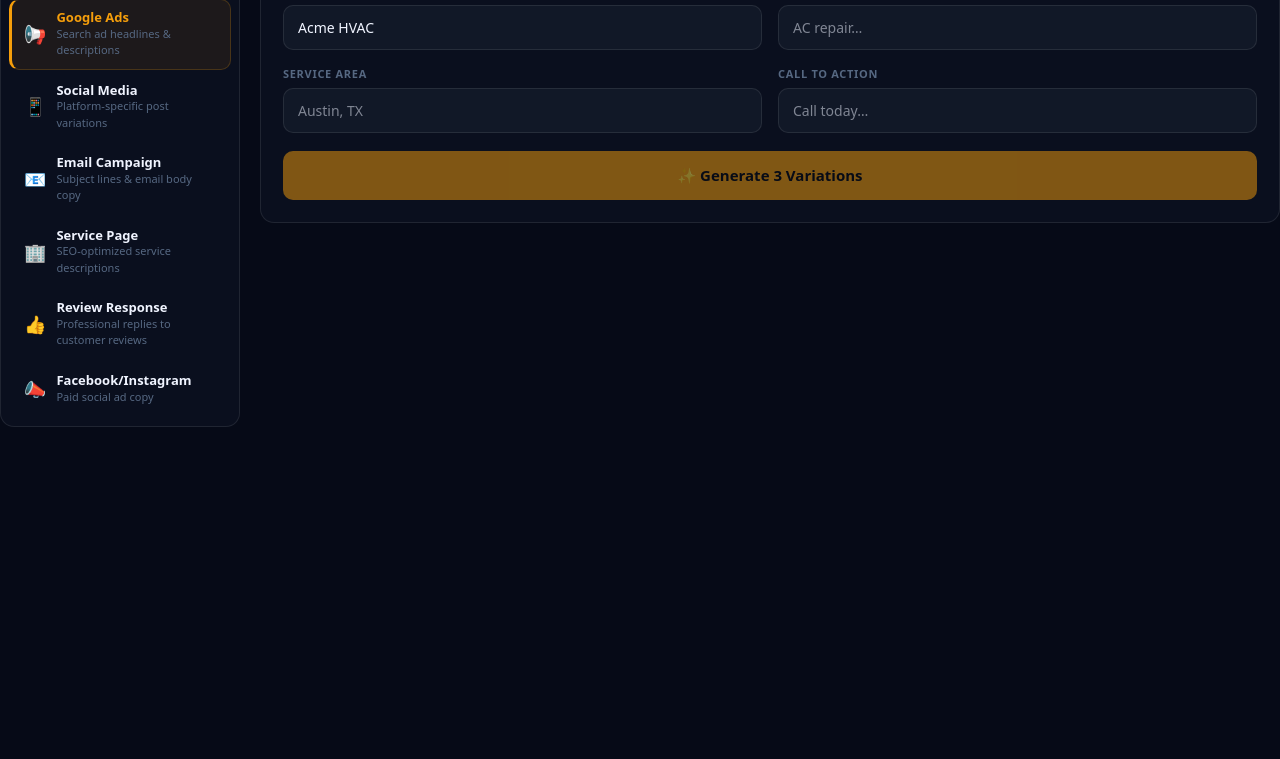
CopyStep › "Next" button is disabled until a variation is selected
Type "Acme" into the field labelled "Business Name".
click(522, 27); type("Acme")  # box left=283, top=4, right=762, bottom=50
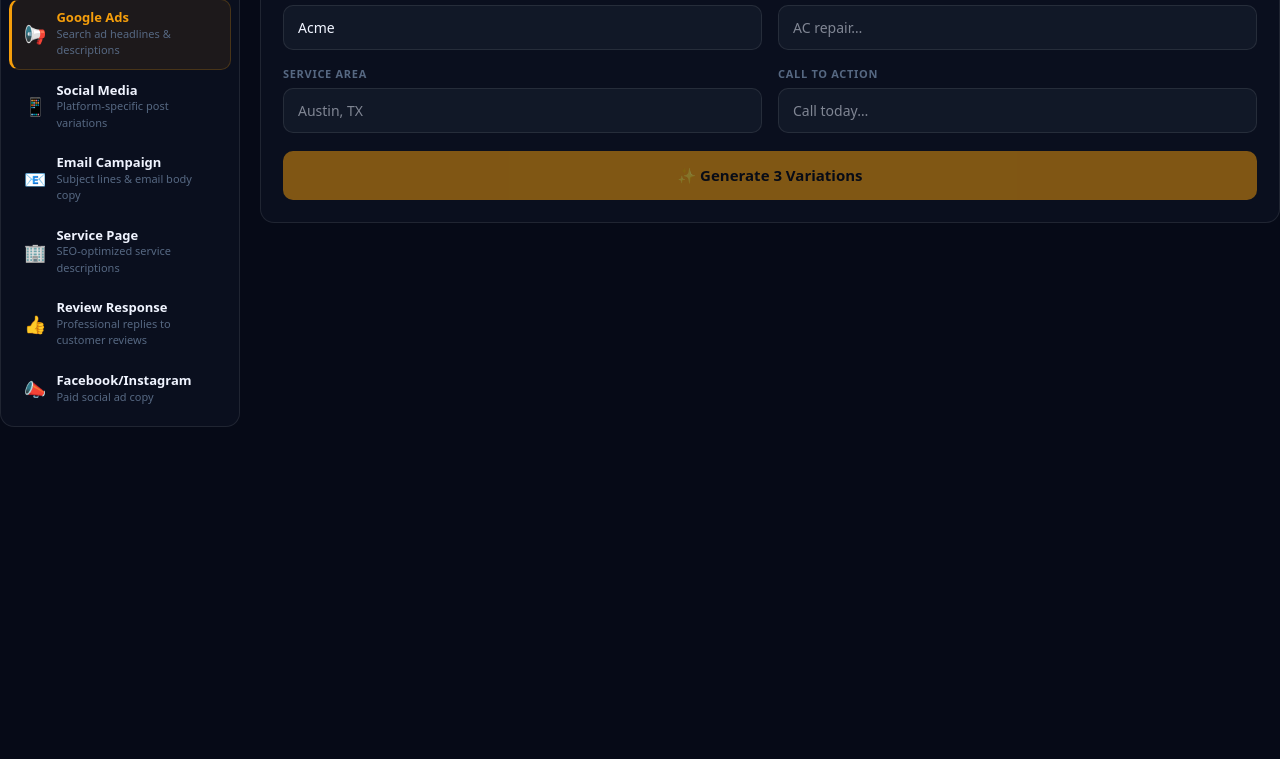
Type "HVAC" into the field labelled "Service".
click(1018, 27); type("HVAC")  # box left=778, top=4, right=1257, bottom=50
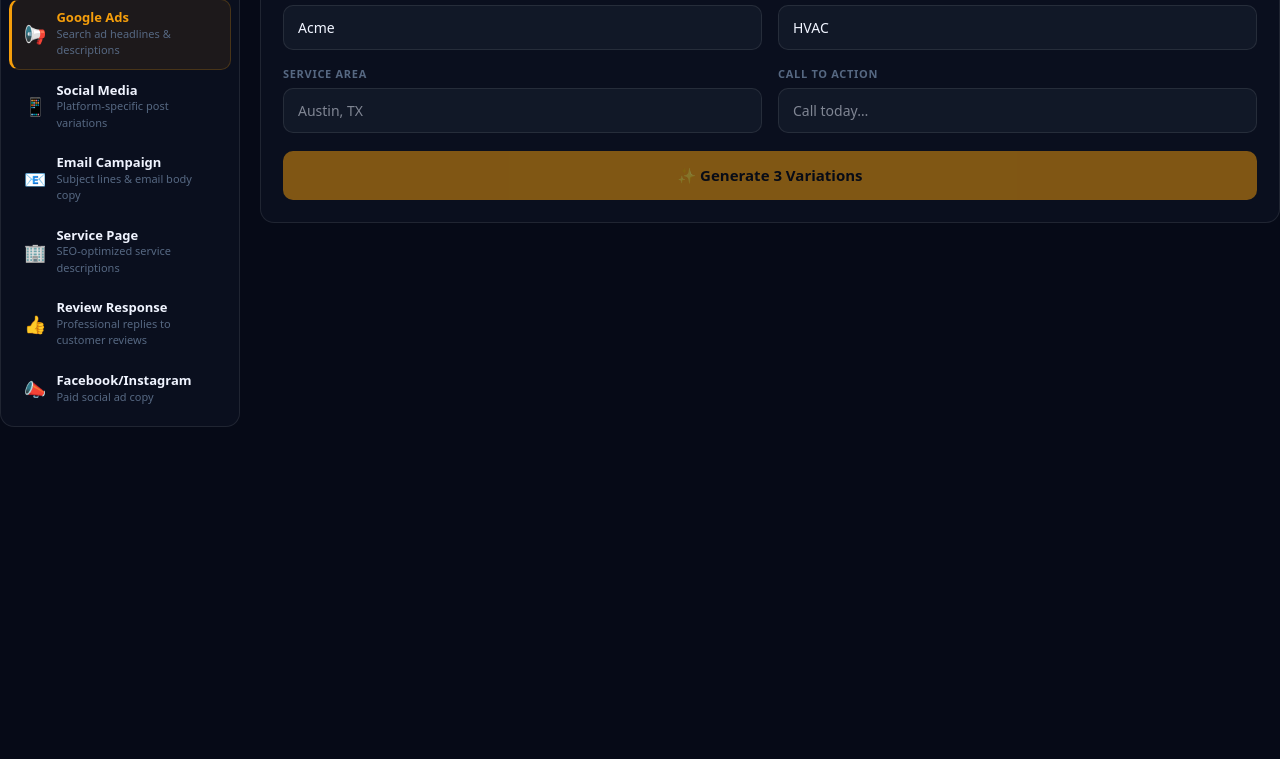
Type "Tampa" into the field labelled "Service Area".
click(522, 110); type("Tampa")  # box left=283, top=88, right=762, bottom=133
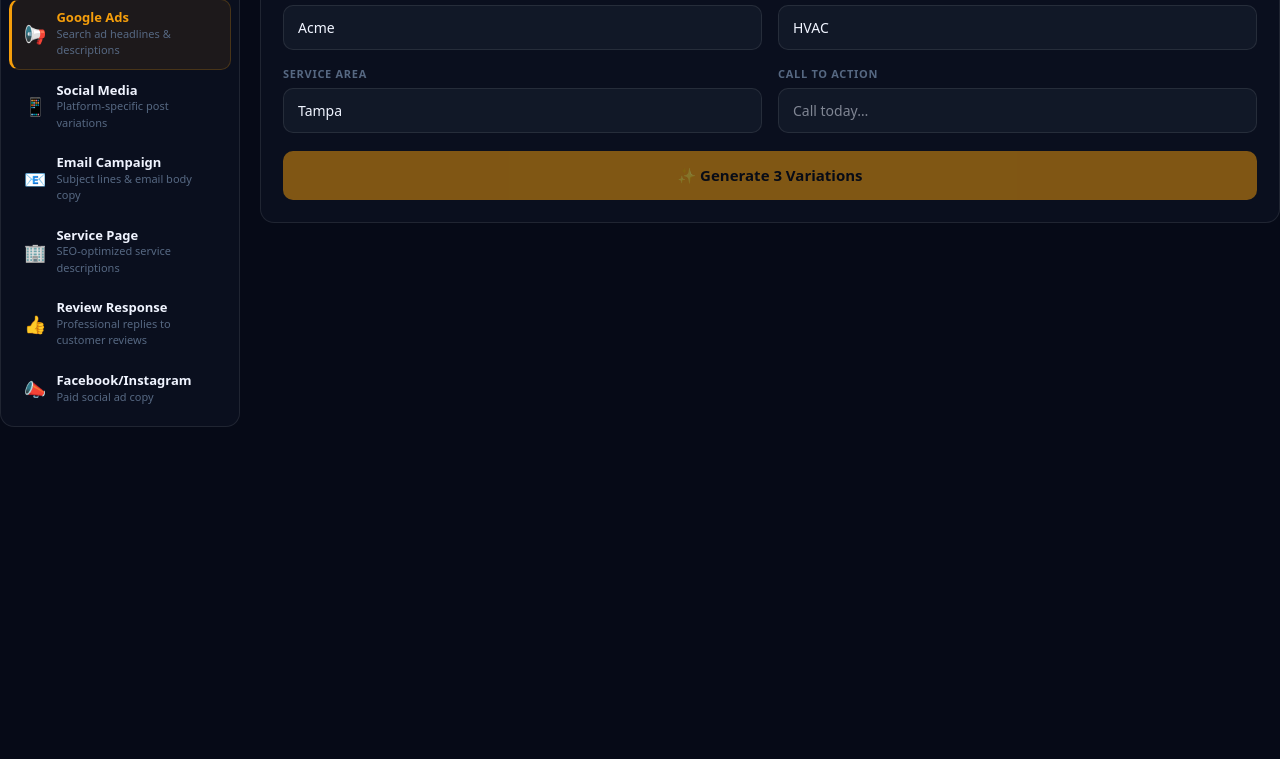
Type "Call" into the field labelled "Call to Action".
click(1018, 110); type("Call")  # box left=778, top=88, right=1257, bottom=133
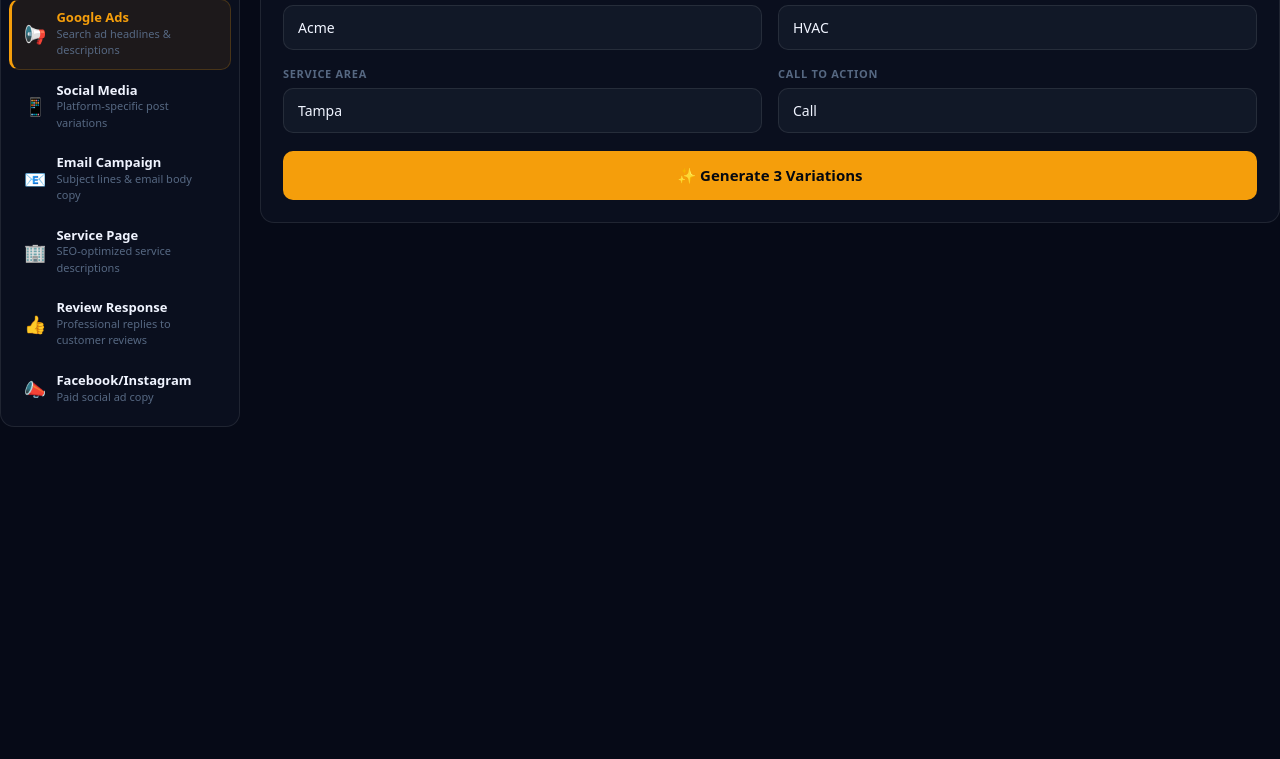
Click the button "✨ Generate 3 Variations".
click(770, 175)  # box left=283, top=151, right=1257, bottom=200
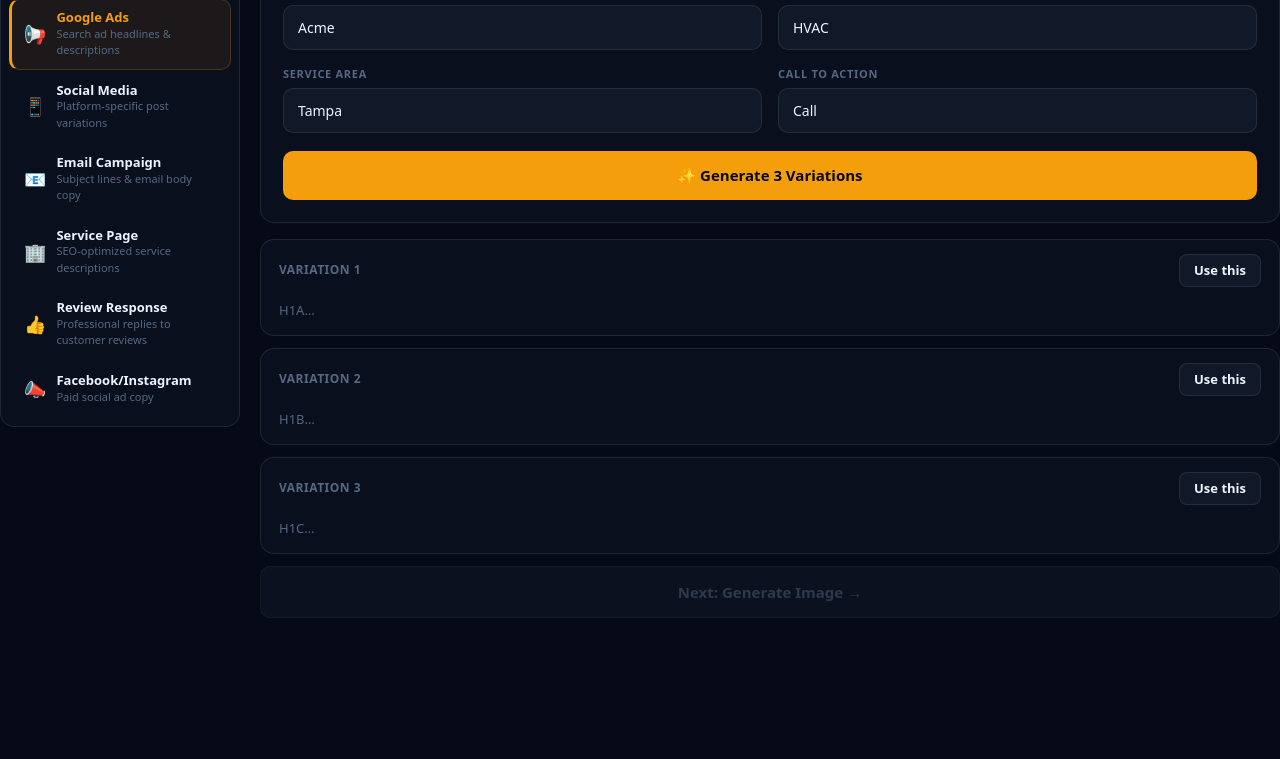
Expected: the text "Variation 1" is shown, left=279, top=261, right=361, bottom=279
Expected: the button "Next: Generate Image →" is disabled, left=260, top=566, right=1279, bottom=618
Click the 1st button "Use this".
click(1220, 270)  # box left=1179, top=254, right=1261, bottom=287
(page scrolled)
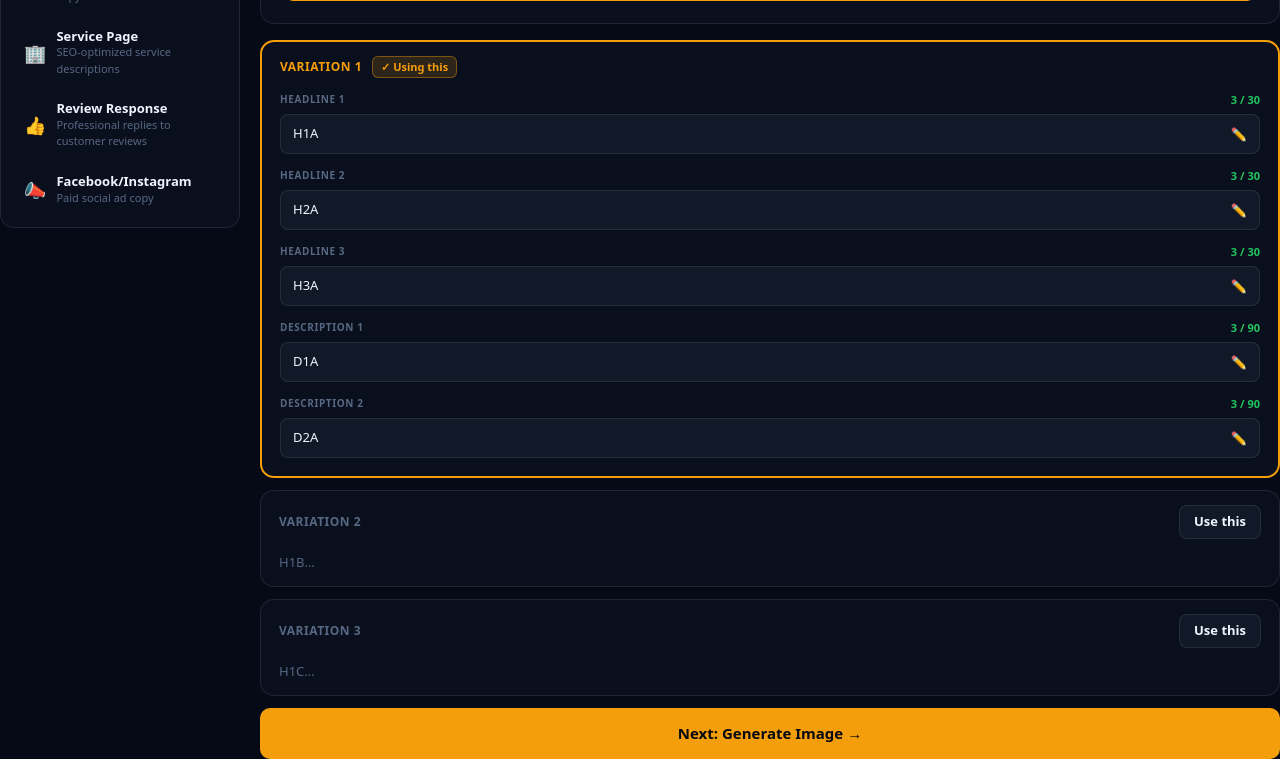
Expected: the button "Next: Generate Image →" is enabled, left=260, top=708, right=1279, bottom=758
